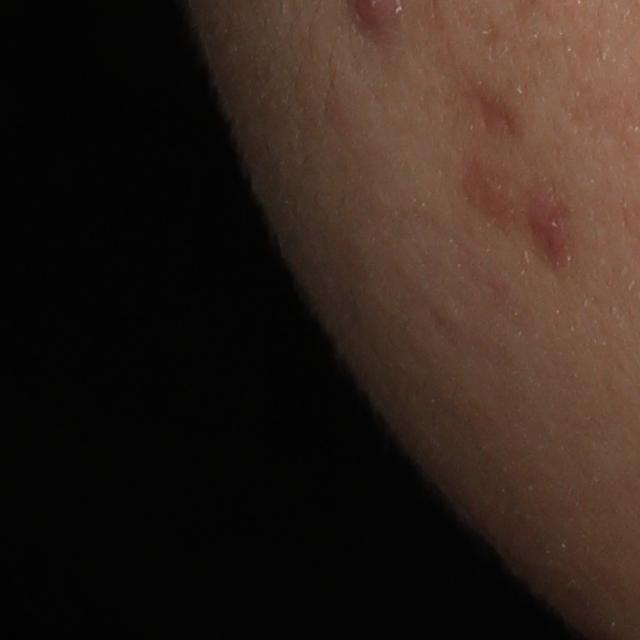papule: (533, 216, 571, 270)
